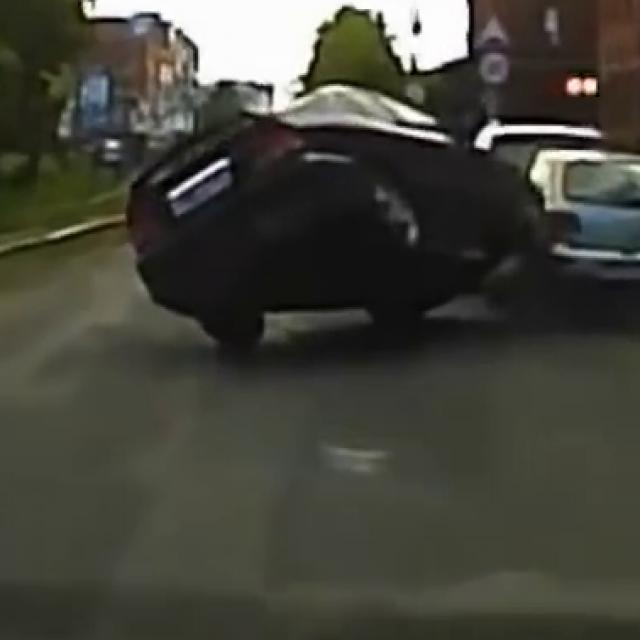accident: (104, 84, 566, 366)
